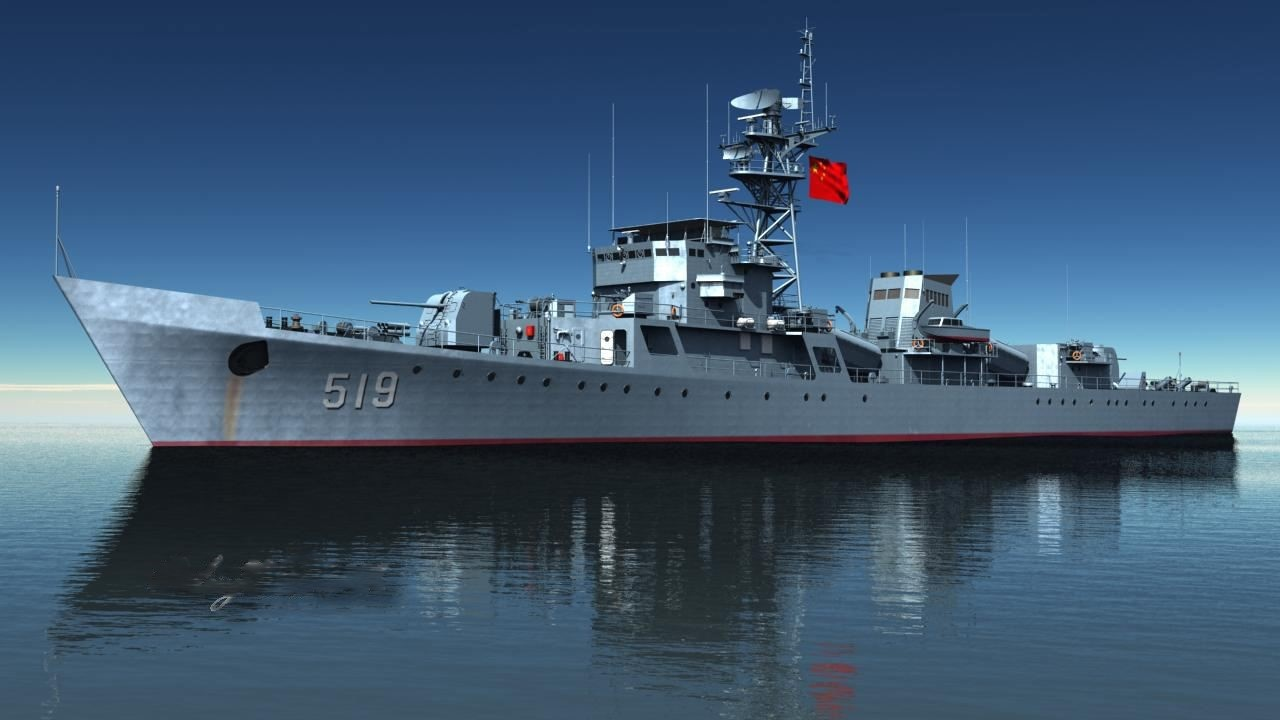warship: (45, 39, 1265, 453)
